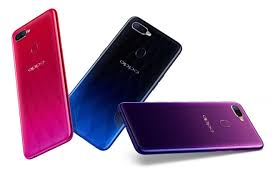oppo: (68, 13, 184, 152), (5, 6, 79, 164)
